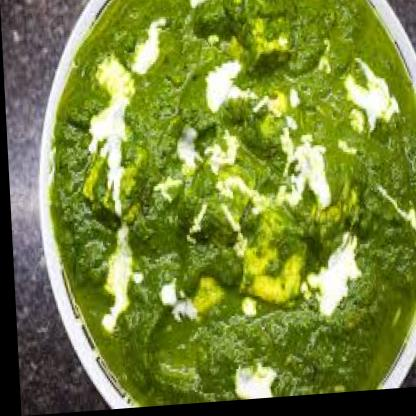palak_paneer: (39, 0, 416, 414)
